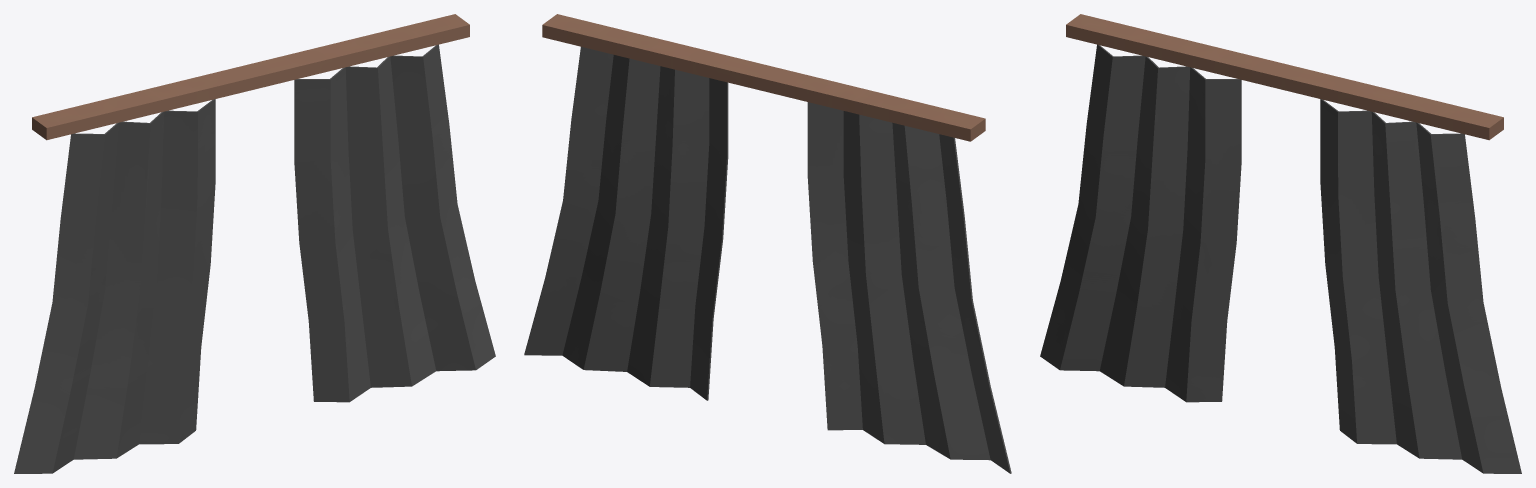
Rendered from Curtain_02_02.fbx.
3 renders of one model, left to right at view 1: azimuth 30°, elevation 25°; view 2: azimuth 150°, elevation 25°; view 3: azimuth 330°, elevation 25°, orthographic.
Visible parts, largest first — view 1: Curtain_02_02; view 2: Curtain_02_02; view 3: Curtain_02_02.
Part boxes in pixels (x1=…): Curtain_02_02: x1=14, y1=14, x2=495, y2=473; Curtain_02_02: x1=524, y1=14, x2=1011, y2=473; Curtain_02_02: x1=1040, y1=14, x2=1521, y2=473.
Bounding box in the file's own units: 1.87 × 1.27 × 0.1387.
